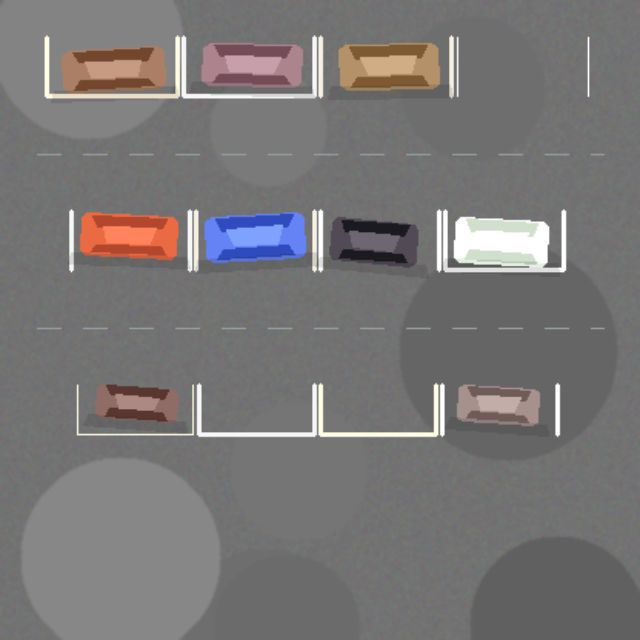space-empty: (457, 37, 588, 95), (198, 385, 314, 434), (320, 385, 435, 434)
space-occupied: (46, 37, 177, 95), (183, 37, 314, 95), (320, 37, 451, 95), (195, 211, 314, 269), (71, 211, 189, 269), (320, 211, 438, 269), (445, 211, 563, 269), (77, 385, 192, 434), (442, 385, 557, 434)
